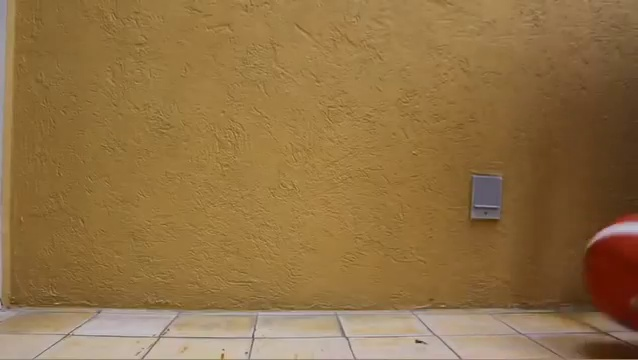ball: (583, 209, 638, 333)
